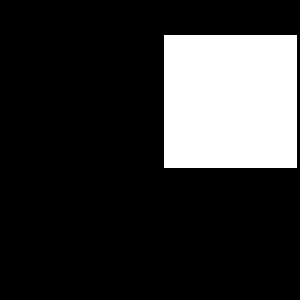circle: (164, 35, 297, 168)
